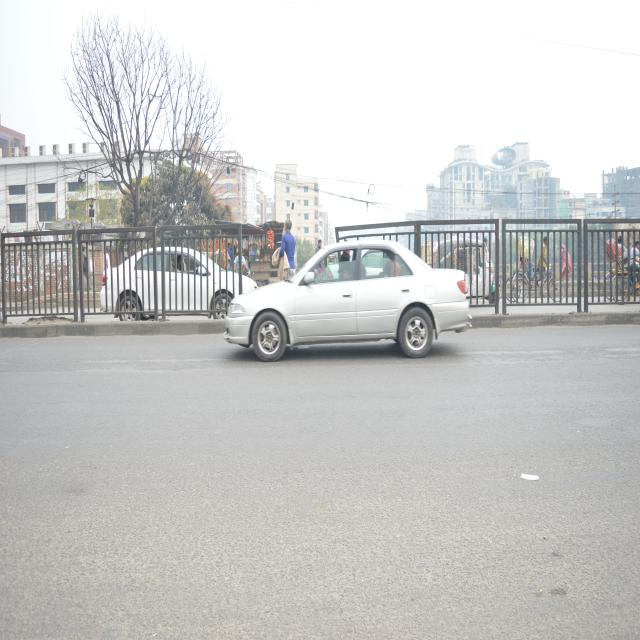car: (222, 221, 473, 390), (98, 225, 268, 336)
